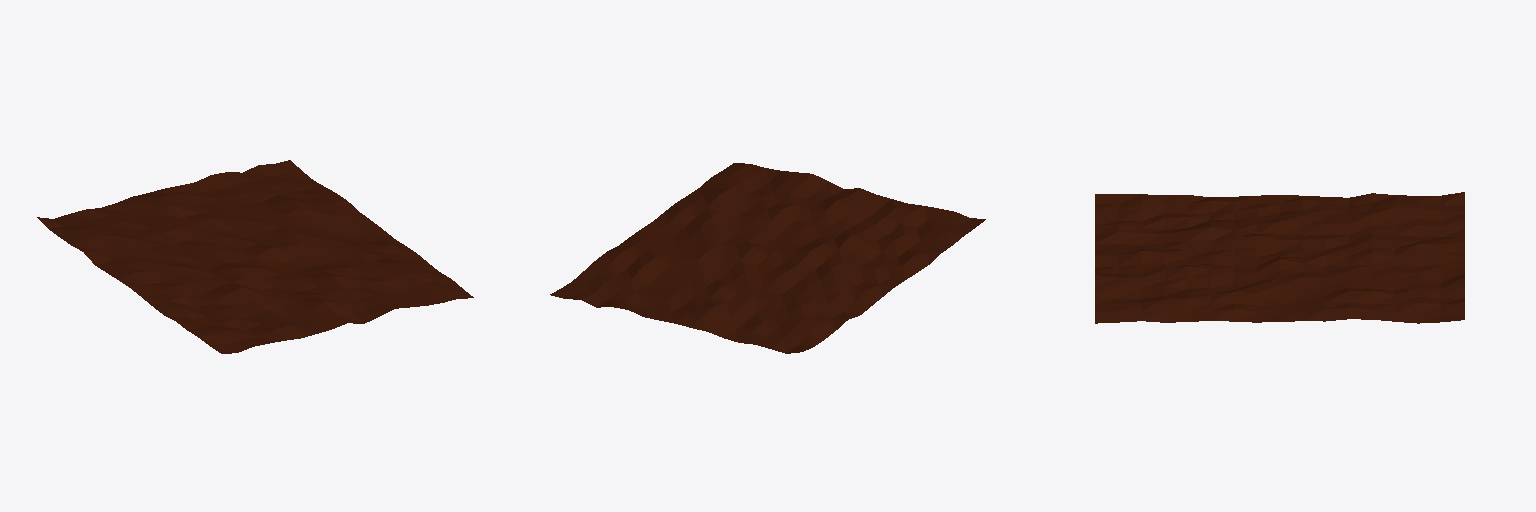
File: Terrain_01.obj
3 renders of one model, left to right at view 1: azimuth 30°, elevation 25°; view 2: azimuth 150°, elevation 25°; view 3: azimuth 270°, elevation 25°, orthographic.
Visible parts, largest first — view 1: Plane_Plane.001; view 2: Plane_Plane.001; view 3: Plane_Plane.001.
Boxes of the visible parts, box(x1,y1,x2,y2) form: Plane_Plane.001: box(37, 160, 473, 353); Plane_Plane.001: box(550, 163, 985, 353); Plane_Plane.001: box(1095, 192, 1464, 323).
Bounding box in the file's own units: 11.13 × 0.4862 × 14.04.